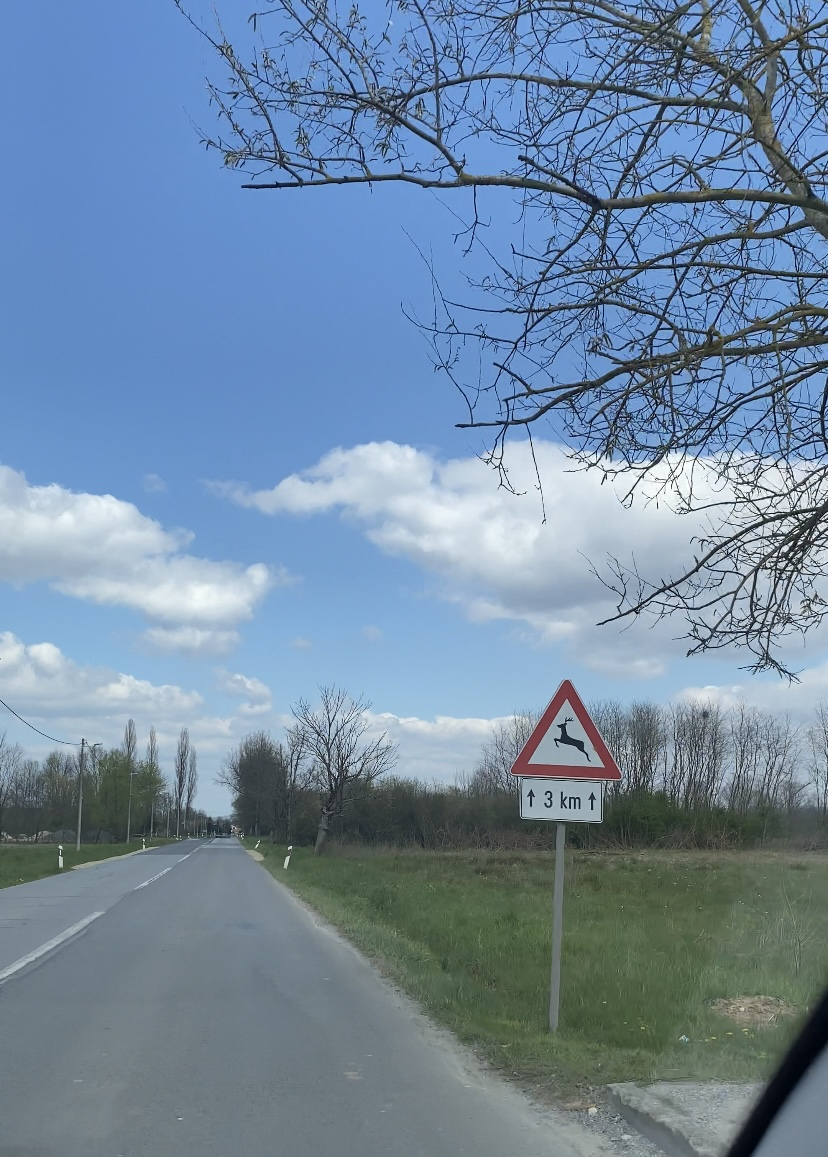Divljač na cesti: (509, 678, 623, 780)
